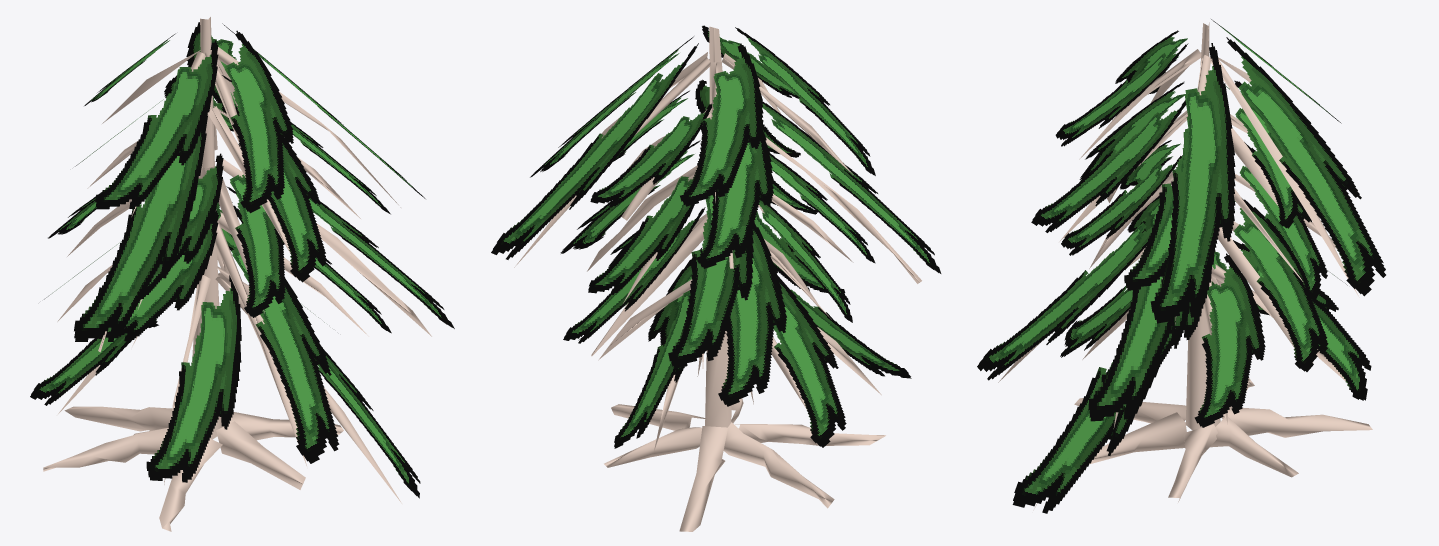
The model's file is crowned_pine_01_lod-decimate-90.glb.
3 views of the same model, side by side, from view 1: azimuth 30°, elevation 25°; view 2: azimuth 150°, elevation 25°; view 3: azimuth 270°, elevation 25° (orthographic). The views are drawn at different scales.
Parts seen in each view (by area): view 1: crowned_pine_01; view 2: crowned_pine_01; view 3: crowned_pine_01.
Boxes of the visible parts, x1,y1,x2,y2 form: crowned_pine_01: [30, 17, 454, 531]; crowned_pine_01: [491, 25, 941, 531]; crowned_pine_01: [977, 19, 1385, 513].
Bounding box in the file's own units: 5.76 × 6.23 × 5.8.
2 materials, 1 textured.
